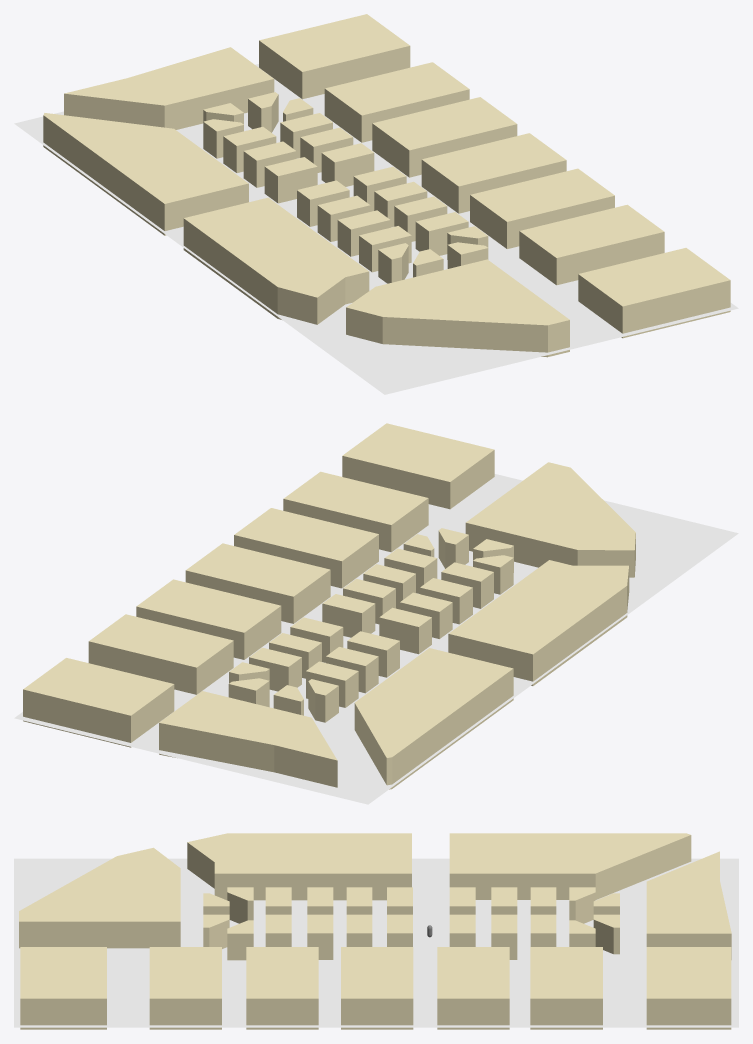
File: market test condensed.fbx
3 renders of one model, top to bottom at view 1: azimuth 30°, elevation 25°; view 2: azimuth 150°, elevation 25°; view 3: azimuth 270°, elevation 25°, orthographic. The views are drawn at different scales.
Visible parts, largest first — view 1: Plane.034, Plane.026, Plane.023, Plane.024, Plane.025, Plane.032, Plane.033, Plane.031, Plane.027, Plane.029, Plane.030, Plane.028 (+20 smaller); view 2: Plane.034, Plane.023, Plane.024, Plane.026, Plane.025, Plane.033, Plane.032, Plane.028, Plane.031, Plane.030, Plane.029, Plane.027 (+20 smaller); view 3: Plane.034, Plane.024, Plane.023, Plane.026, Plane.032, Plane.033, Plane.025, Plane.027, Plane.028, Plane.029, Plane.030, Plane.031 (+22 smaller).
Part boxes in pixels (box(x1,y1,x2,y2)): Plane.034: box(14, 64, 738, 394); Plane.026: box(346, 259, 569, 357); Plane.023: box(183, 197, 369, 324); Plane.024: box(43, 113, 248, 235); Plane.025: box(64, 47, 274, 129); Plane.032: box(578, 248, 730, 338); Plane.033: box(259, 14, 410, 99); Plane.031: box(519, 204, 664, 285); Plane.027: box(372, 97, 517, 177); Plane.029: box(470, 168, 614, 248); Plane.030: box(421, 133, 566, 213); Plane.028: box(324, 62, 469, 142); Plane.034: box(14, 474, 738, 804); Plane.023: box(448, 560, 629, 685); Plane.024: box(354, 648, 513, 789); Plane.026: box(465, 462, 635, 577); Plane.025: box(159, 691, 337, 787); Plane.033: box(23, 658, 174, 747); Plane.032: box(342, 423, 494, 509); Plane.028: box(88, 614, 233, 694); Plane.031: box(283, 471, 428, 552); Plane.030: box(185, 543, 330, 623); Plane.029: box(234, 508, 378, 588); Plane.027: box(136, 579, 281, 659); Plane.034: box(14, 858, 738, 1027); Plane.024: box(449, 833, 691, 899); Plane.023: box(187, 833, 411, 900); Plane.026: box(19, 847, 180, 948); Plane.032: box(20, 947, 106, 1029); Plane.033: box(646, 947, 731, 1029); Plane.025: box(646, 851, 731, 959); Plane.027: box(437, 947, 509, 1029); Plane.028: box(530, 947, 602, 1029); Plane.029: box(246, 947, 318, 1029); Plane.030: box(341, 947, 413, 1029); Plane.031: box(149, 947, 221, 1029).
Bounding box in the file's own units: 39.65 × 3.41 × 71.88.
